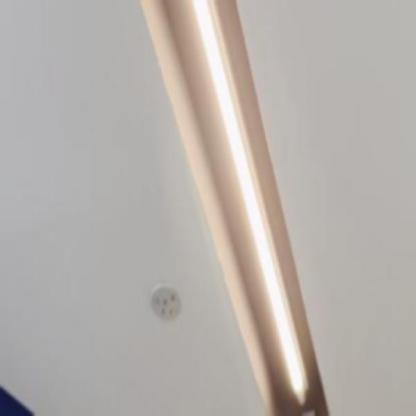light_on: (160, 0, 312, 402), (296, 406, 344, 415)
